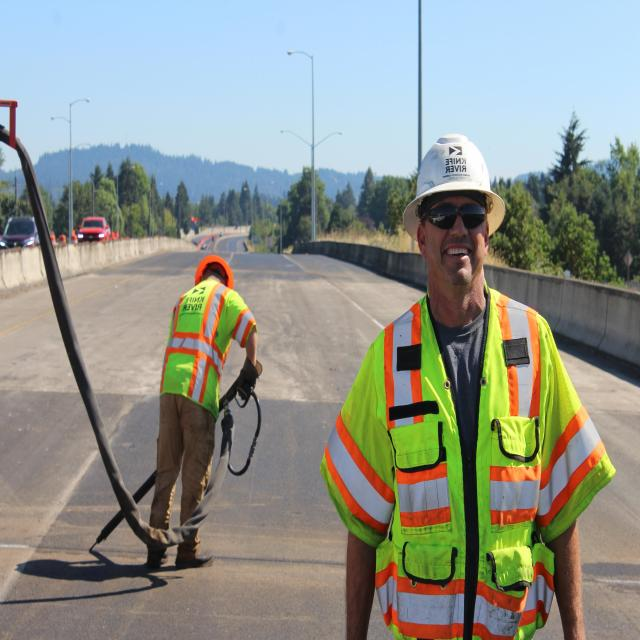Reflective-Jacket: (318, 293, 611, 639), (155, 282, 258, 422)
Safety-Helmet: (400, 125, 509, 236), (190, 249, 236, 286)
